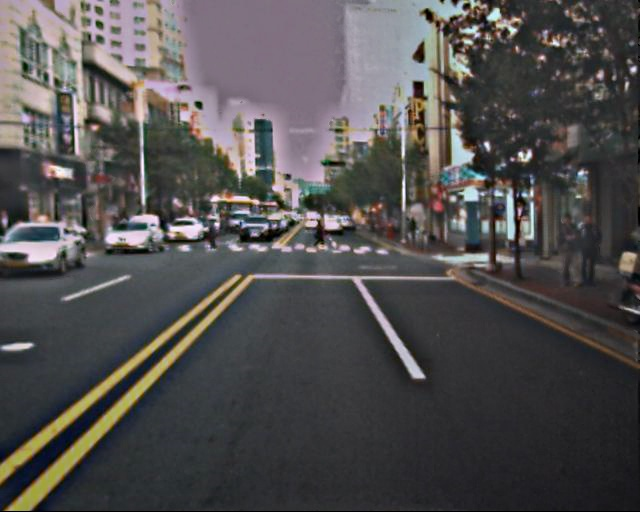person: (570, 211, 602, 289), (550, 211, 581, 286), (312, 216, 326, 251), (204, 221, 217, 253)
